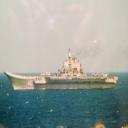Portanaves: (5, 47, 120, 94)
